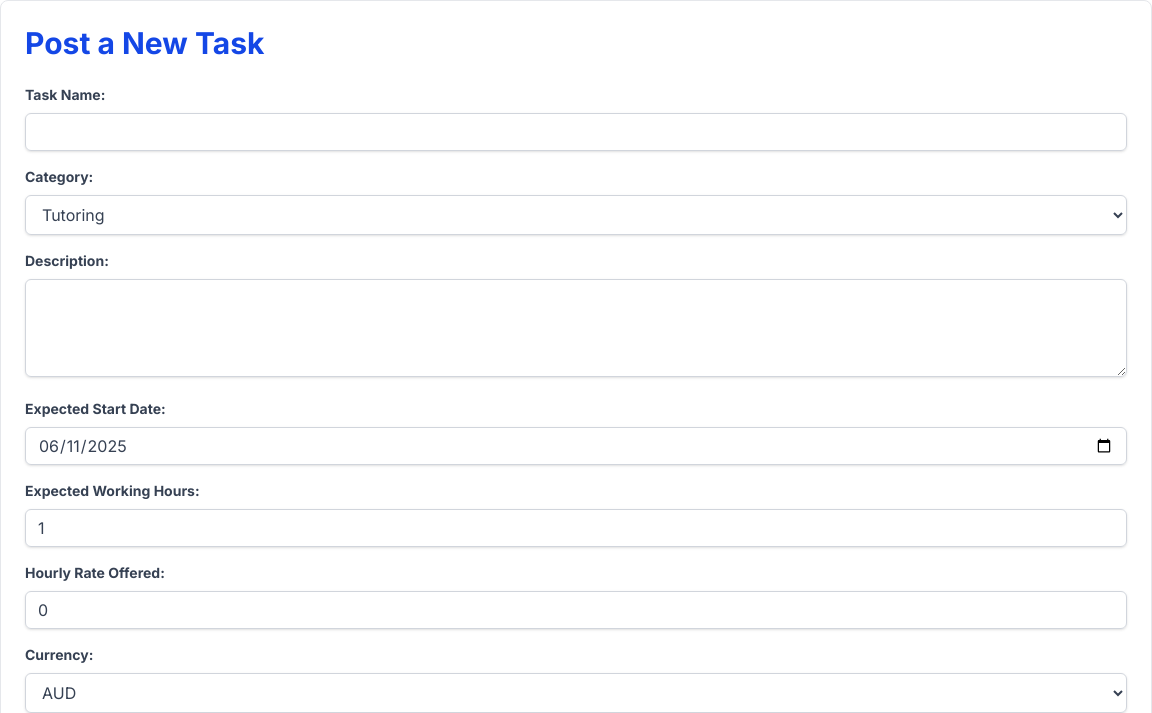
Test case: CreateTaskPage › submits form and shows success, then redirects
This screenshot has width=1152, height=713.
In the field labelled "Task Name:": (576, 132) top-left (25, 113), bottom-right (1127, 151), type "Test Task"
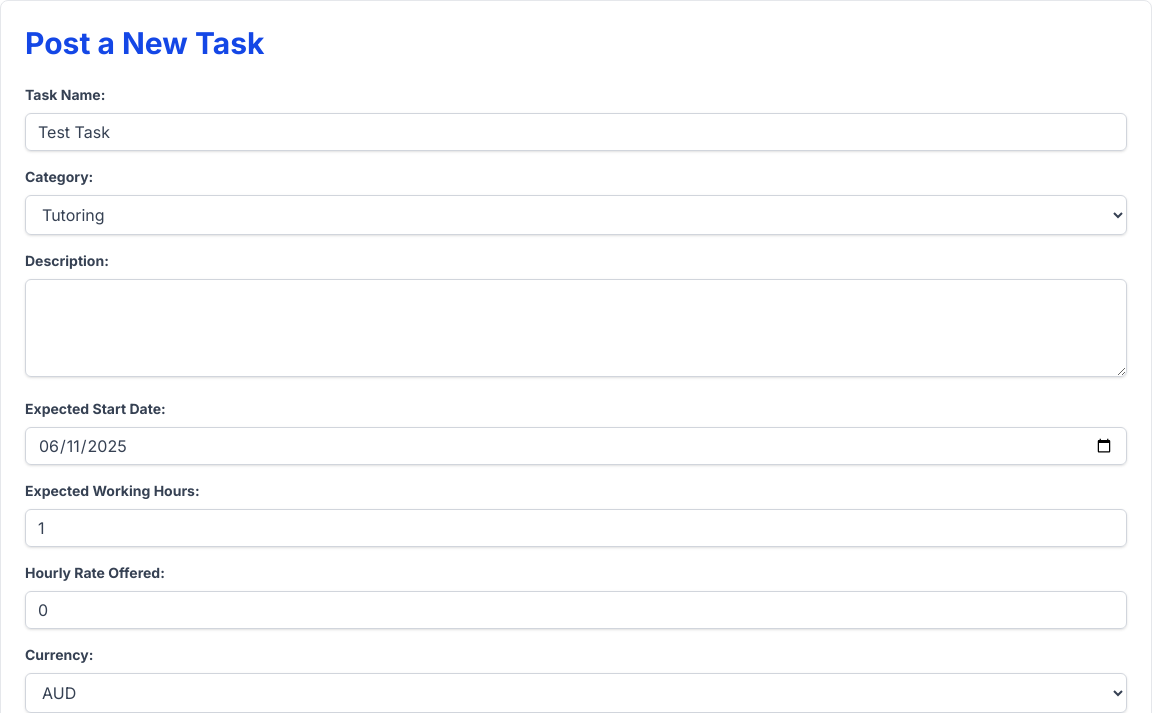
In the text box labelled "Description:": (576, 328) top-left (25, 279), bottom-right (1127, 377), type "A test task"
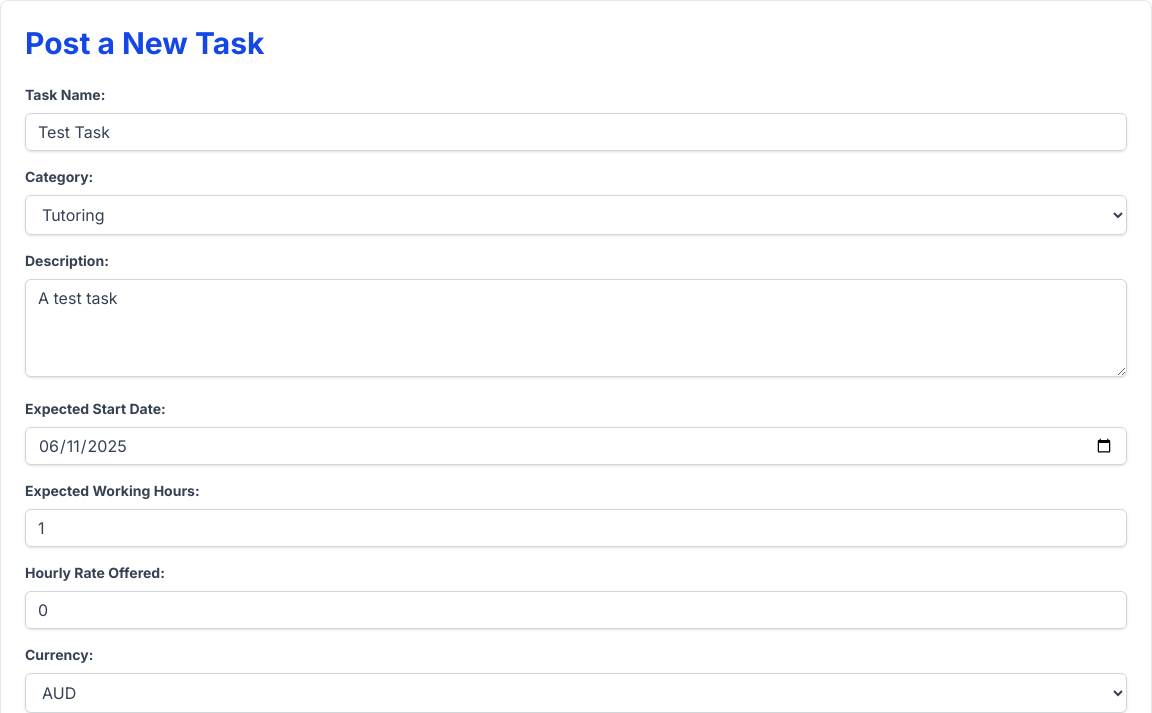
Replace the text in the number field labelled "Expected Working Hours:" with "2": (576, 528) top-left (25, 509), bottom-right (1127, 547)
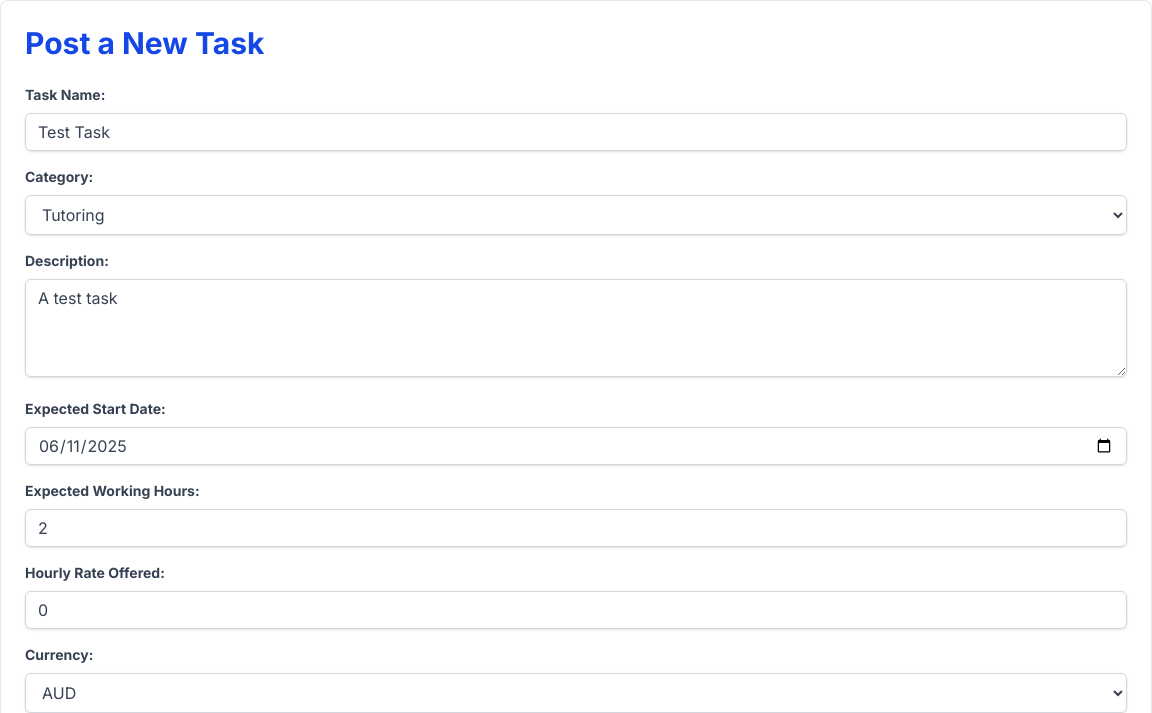
Replace the text in the number field labelled "Hourly Rate Offered:" with "50": (576, 610) top-left (25, 591), bottom-right (1127, 629)
(page scrolled)
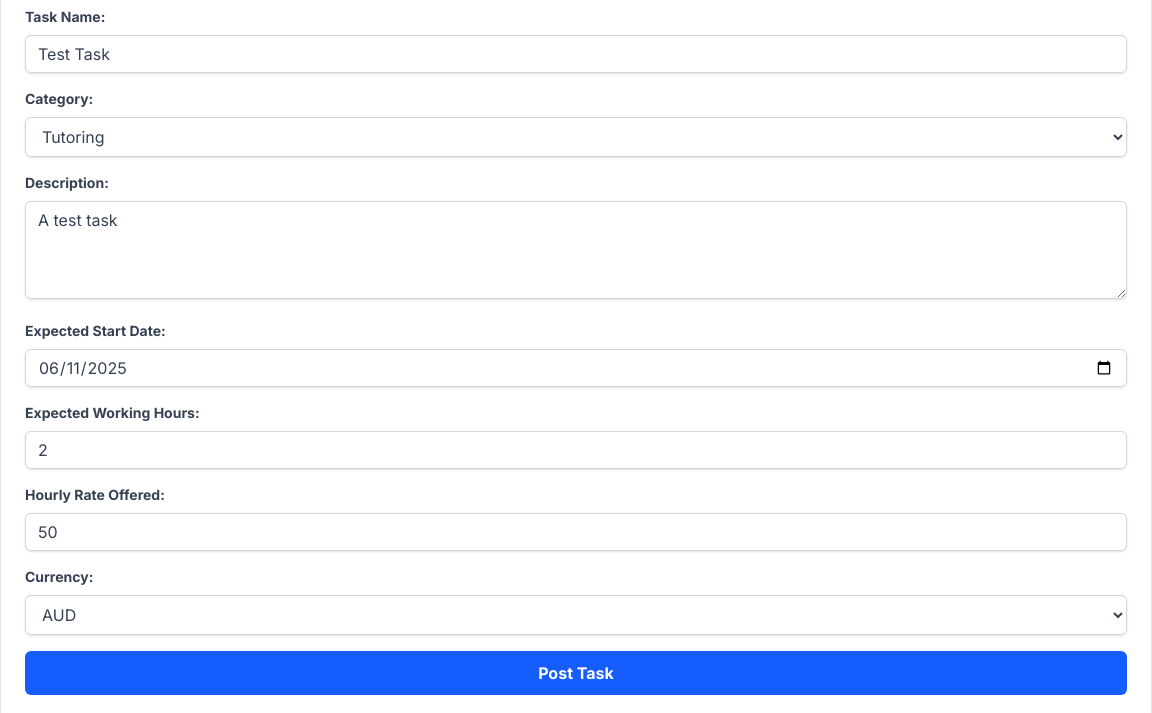
Click the button "Post Task": (576, 673) top-left (25, 651), bottom-right (1127, 695)
(page scrolled)
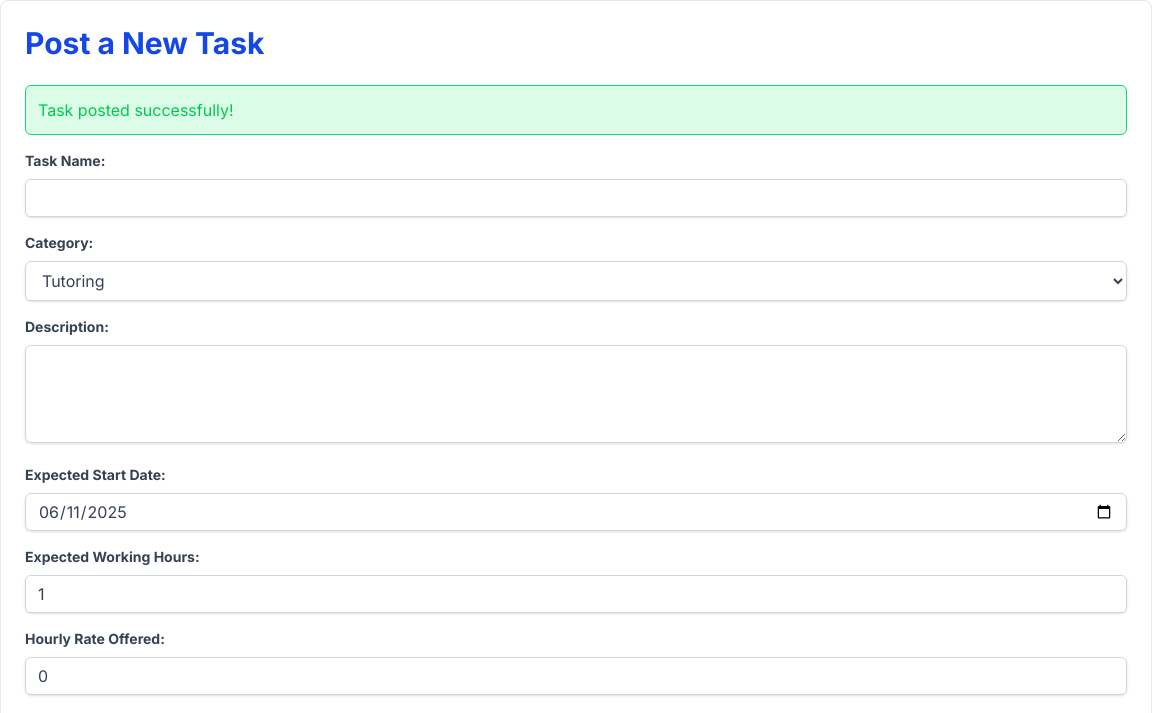
Check: the text "Task posted successfully!" is shown, box top-left (25, 85), bottom-right (1127, 135)
